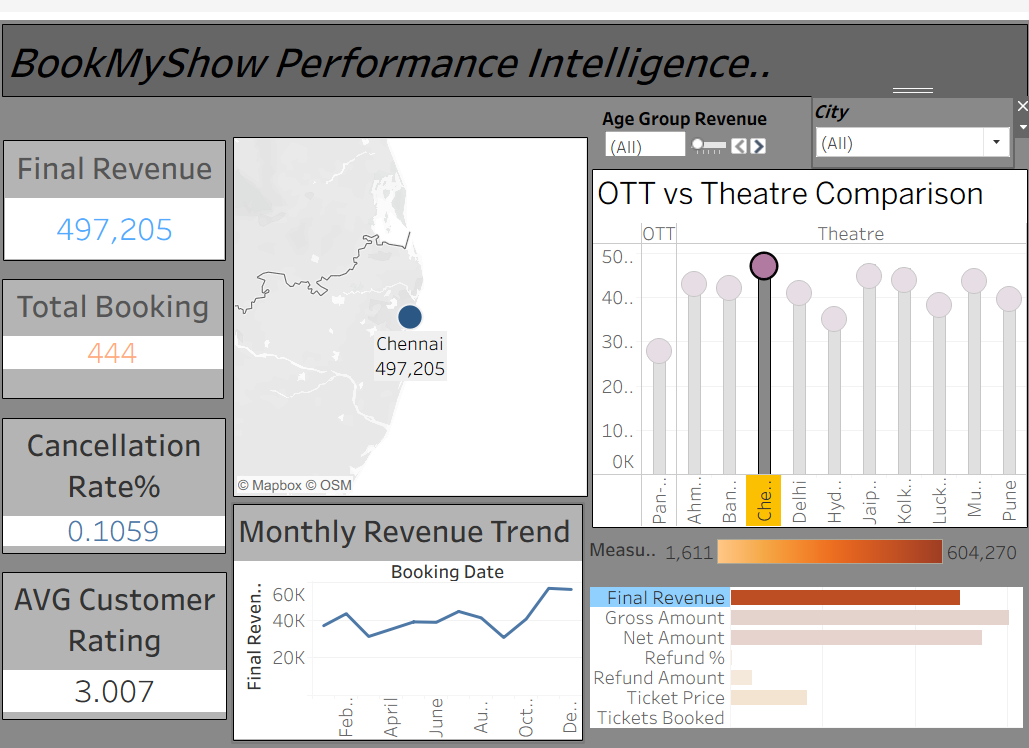

The dashboard page shown, as its layout file describes it:
{"tool":"tableau","page":{"name":"Dashboard 1","canvas":[1000,1000],"units":"permille","ordinal":0},"visuals":[{"type":"title","box":[7.6,14.3,984.8,144.7]},{"type":"filter","title":"KPI 1","param":"[federated.13jyk3h17ibtqc1h0a8vr1dxje9e].[none:City:nk]","box":[795.2,21.4,190.5,92.9]},{"type":"filter","title":"Sheet 13","param":"[federated.13jyk3h17ibtqc1h0a8vr1dxje9e].[none:Calculation_0067112482054153:nk]","box":[623.8,23.2,160,133.9]},{"type":"worksheet","title":"Sheet 13","mark":"Automatic","box":[7.6,158.9,984.8,57.1]},{"type":"worksheet","title":"Sheet 10","mark":"Automatic","box":[231.4,167.9,338.1,482.1]},{"type":"worksheet","title":"OTT vs Theatre Comparison","mark":"Circle","rows":["Final_Revenue","Final_Revenue"],"cols":["Platform_Type","City"],"box":[573.3,167.9,415.2,480.4]},{"type":"worksheet","title":"KPI 1","mark":"Automatic","box":[12.4,171.4,212.4,162.5]},{"type":"worksheet","title":"KPI2","mark":"Automatic","box":[11.4,357.1,211.4,160.7]},{"type":"worksheet","title":"KPI3","mark":"Automatic","box":[11.4,542.9,213.3,182.1]},{"type":"legend","title":"Sheet 12","param":"[federated.13jyk3h17ibtqc1h0a8vr1dxje9e].[Multiple Values]","box":[572.4,655.4,412.4,69.6]},{"type":"worksheet","title":"Monthly Revenue","mark":"Automatic","rows":["Final_Revenue"],"cols":["Booking_Date"],"box":[231.4,658.9,333.3,317.9]},{"type":"legend","title":"Monthly Revenue","param":"[Parameters].[Parameter 2]","box":[449.5,662.5,112.4,67.9]},{"type":"worksheet","title":"Sheet 12","mark":"Automatic","box":[572.4,705.4,412.4,267.9]},{"type":"worksheet","title":"KPI5","mark":"Automatic","box":[11.4,750,214.3,198.2]}]}

Visuals, with their boxes on the dashboard's canvas, which has no fixed pixel size, in thousandths of its width and height (x1, y1, x2, y2). These are canvas units, not pixel positions in the 1029x748 screenshot, which may show the page scaled, cropped or inside an application window:
title: x1=8, y1=14, x2=992, y2=159
"KPI 1" filter: x1=795, y1=21, x2=986, y2=114
"Sheet 13" filter: x1=624, y1=23, x2=784, y2=157
"Sheet 13" worksheet: x1=8, y1=159, x2=992, y2=216
"Sheet 10" worksheet: x1=231, y1=168, x2=570, y2=650
"OTT vs Theatre Comparison" worksheet (Circle marks): x1=573, y1=168, x2=988, y2=648
"KPI 1" worksheet: x1=12, y1=171, x2=225, y2=334
"KPI2" worksheet: x1=11, y1=357, x2=223, y2=518
"KPI3" worksheet: x1=11, y1=543, x2=225, y2=725
"Sheet 12" legend: x1=572, y1=655, x2=985, y2=725
"Monthly Revenue" worksheet: x1=231, y1=659, x2=565, y2=977
"Monthly Revenue" legend: x1=450, y1=662, x2=562, y2=730
"Sheet 12" worksheet: x1=572, y1=705, x2=985, y2=973
"KPI5" worksheet: x1=11, y1=750, x2=226, y2=948
